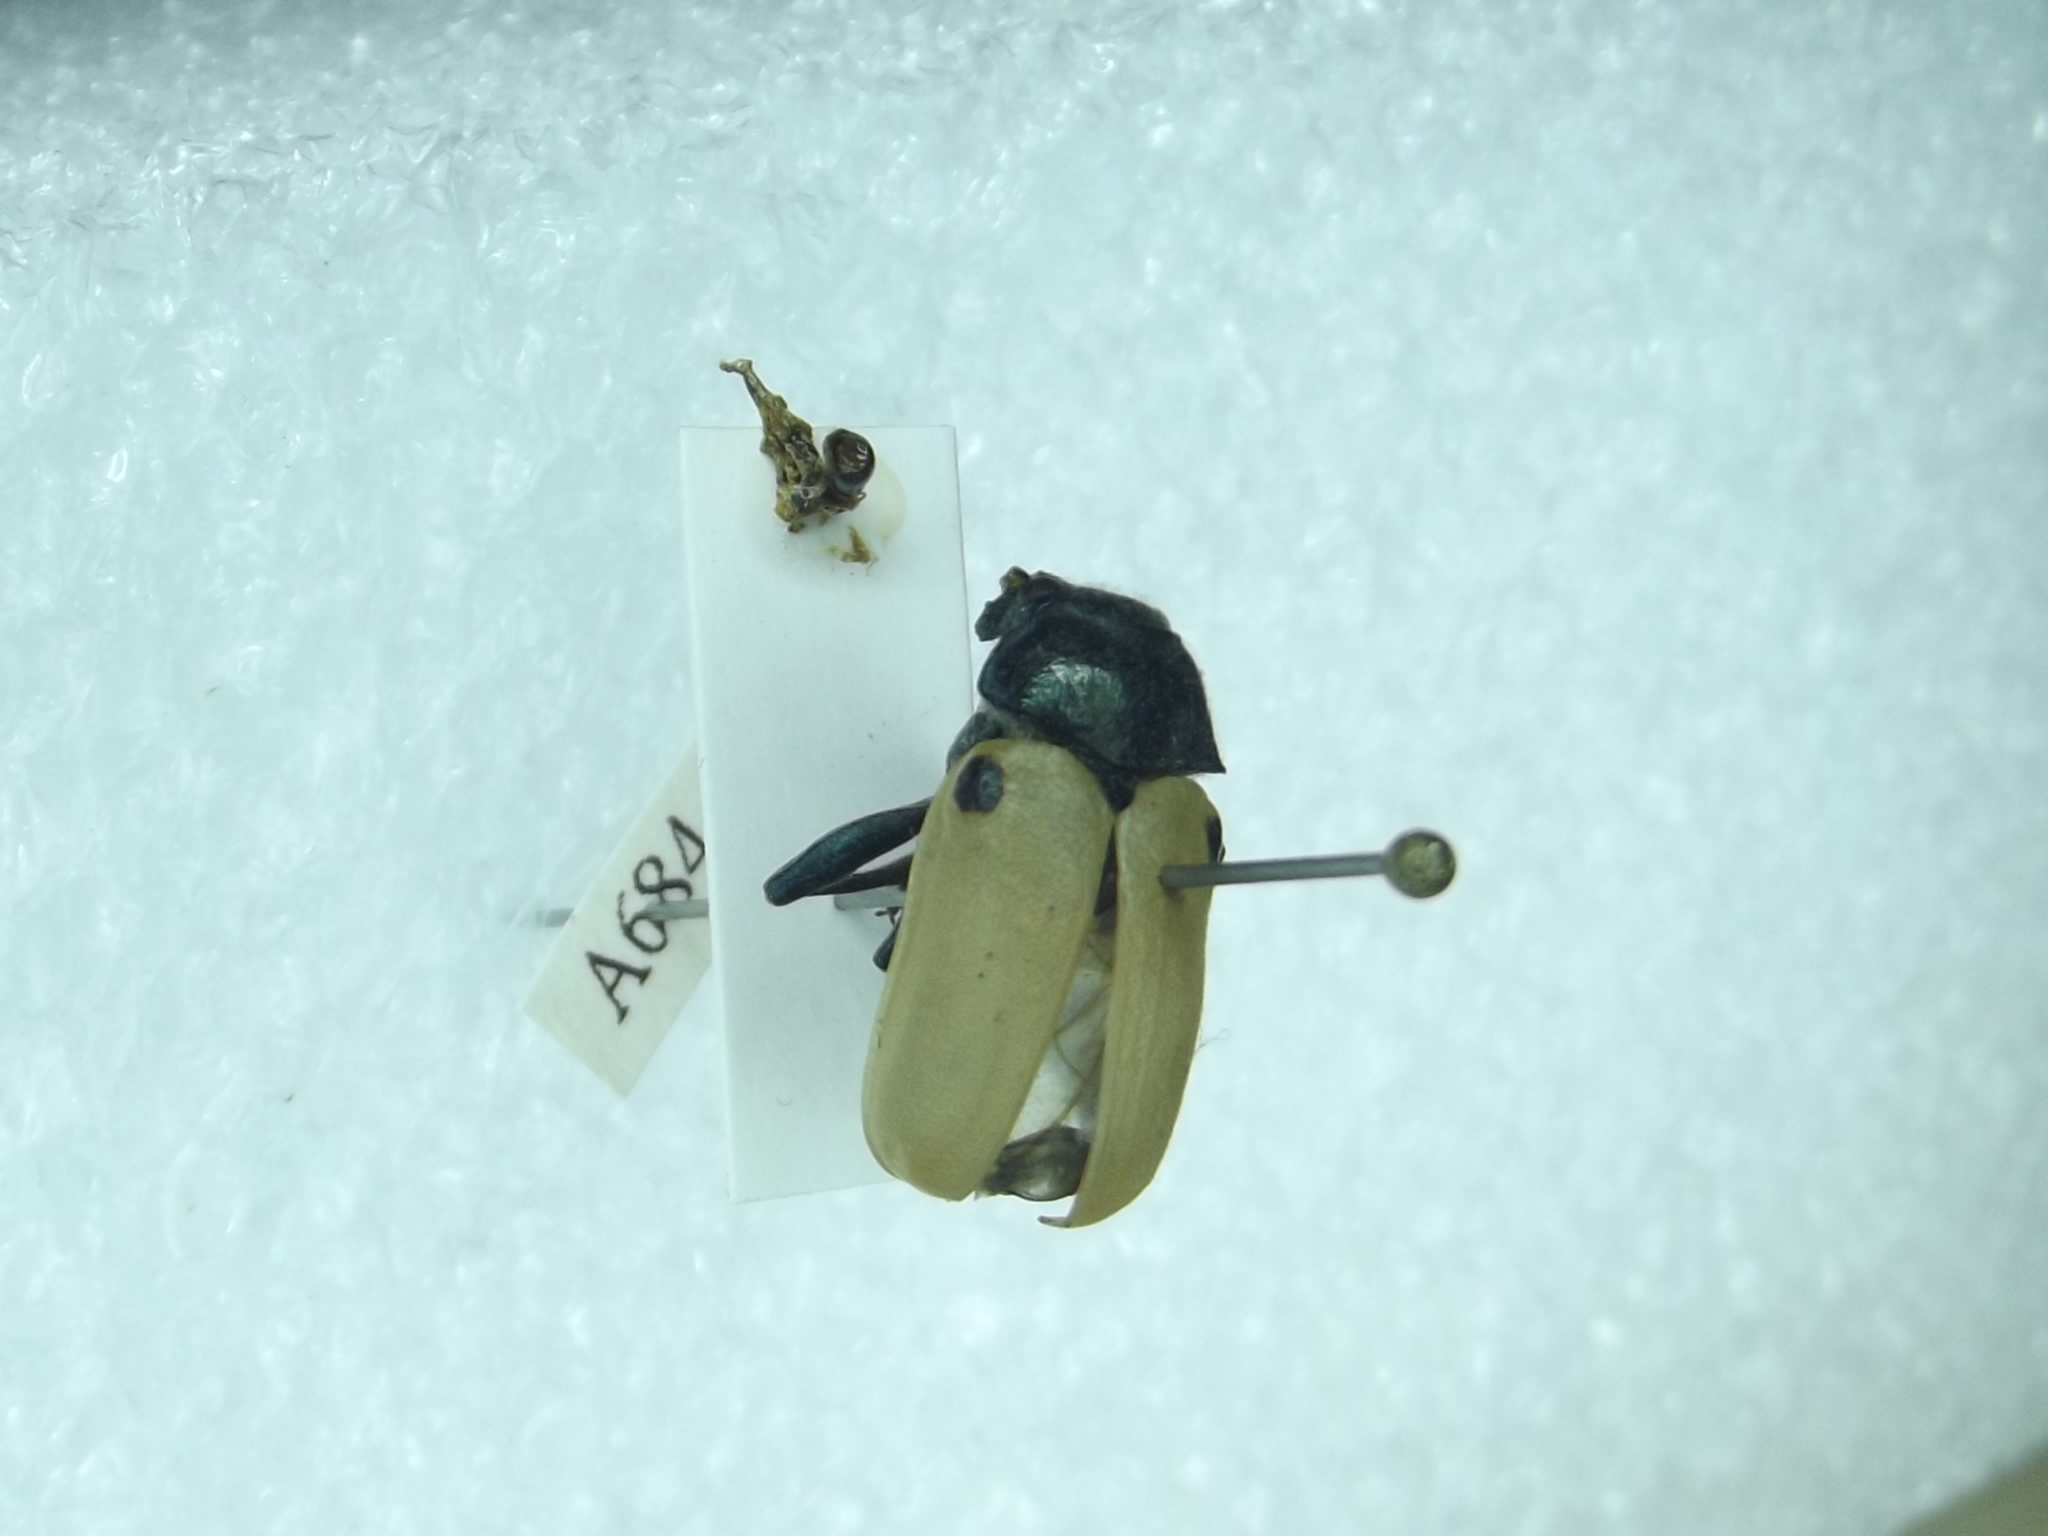Labidostomis_asiatica: (758, 544, 1250, 1258)
